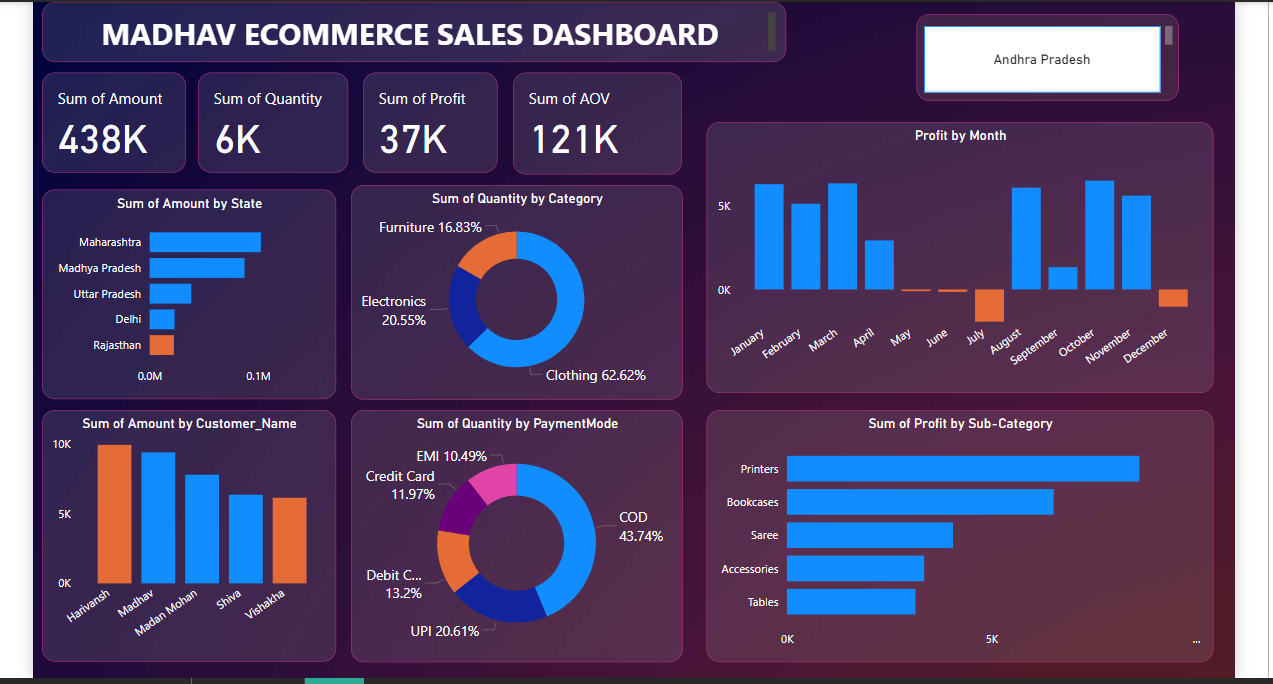

The page's visual inventory and layout, read from the dashboard file:
{"tool":"powerbi","page":{"name":"Page 1","canvas":[1280,720],"ordinal":0},"visuals":[{"type":"textbox","box":[9.6,0,792.4,63.9],"z":0},{"type":"columnChart","title":"Profit by Month","fields":{"Category":["Orders.Order_Date.Variation.Date Hierarchy.Month"],"Y":["Details.Profit"]},"box":[716.7,128.3,540,288.3],"z":1000},{"type":"barChart","fields":{"Category":["Details.Sub-Category"],"Y":["Details.Profit"]},"box":[716.7,435,540,268.3],"z":2000},{"type":"donutChart","fields":{"Category":["Details.Category"],"Y":["Details.Quantity"]},"box":[338.3,195,353.3,228.3],"z":3000},{"type":"donutChart","fields":{"Category":["Details.PaymentMode","Details.Category"],"Y":["Details.Quantity"]},"box":[338.3,435,353.3,268.3],"z":4000},{"type":"cardVisual","fields":{"Data":["Details.Amount"]},"box":[10,75,153.3,106.7],"z":5000},{"type":"cardVisual","fields":{"Data":["Details.Quantity"]},"box":[175,75,160,106.7],"z":6000},{"type":"cardVisual","fields":{"Data":["Details.Profit"]},"box":[351.7,75,143.3,106.7],"z":7000},{"type":"cardVisual","fields":{"Data":["Details.AOV"]},"box":[511.7,75,180,108.3],"z":8000},{"type":"barChart","fields":{"Category":["Orders.State"],"Y":["Details.Amount"]},"box":[10,200,313.3,223.3],"z":9000},{"type":"columnChart","fields":{"Category":["Orders.Customer_Name"],"Y":["Details.Amount"]},"box":[10,435,313,268],"z":10000},{"type":"advancedSlicerVisual","fields":{"Values":["Orders.State"]},"box":[941,12.8,279.6,92.7],"z":11000}]}

Visuals, with their boxes on the page's 1280x720 design canvas (x1, y1, x2, y2). These are canvas units, not pixel positions in the 1273x684 screenshot, which may show the page scaled, cropped or inside an application window:
textbox: box=[10, 0, 802, 64]
"Profit by Month" columnChart: box=[717, 128, 1257, 417]
barChart - Details.Sub-Category x Details.Profit: box=[717, 435, 1257, 703]
donutChart - Details.Category x Details.Quantity: box=[338, 195, 692, 423]
donutChart - Details.PaymentMode x Details.Category: box=[338, 435, 692, 703]
cardVisual - Details.Amount: box=[10, 75, 163, 182]
cardVisual - Details.Quantity: box=[175, 75, 335, 182]
cardVisual - Details.Profit: box=[352, 75, 495, 182]
cardVisual - Details.AOV: box=[512, 75, 692, 183]
barChart - Orders.State x Details.Amount: box=[10, 200, 323, 423]
columnChart - Orders.Customer_Name x Details.Amount: box=[10, 435, 323, 703]
advancedSlicerVisual - Orders.State: box=[941, 13, 1221, 106]
